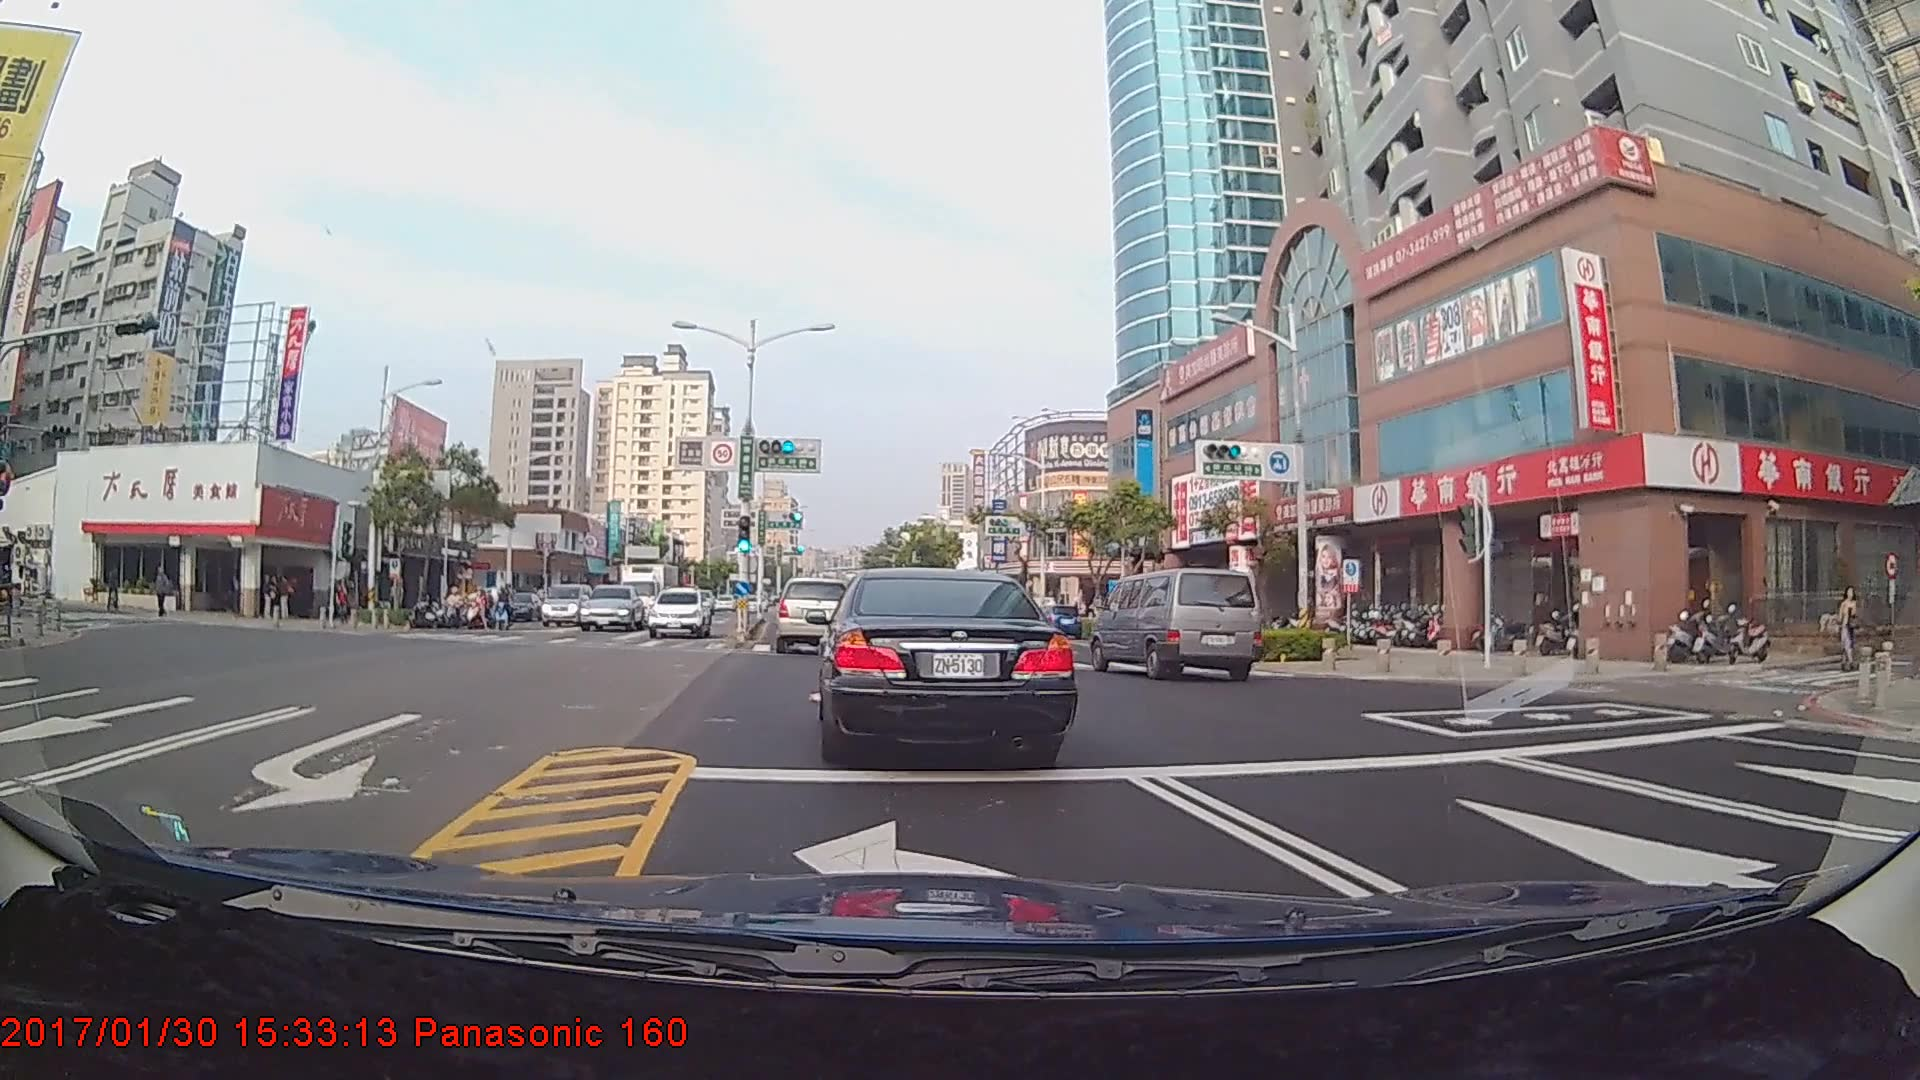pedestrian: (1836, 589, 1862, 663), (263, 573, 283, 623), (150, 567, 170, 617), (276, 575, 296, 623)
vehicle: (813, 566, 1070, 755), (1095, 564, 1259, 681), (777, 578, 855, 655), (617, 556, 680, 629), (647, 586, 713, 639), (578, 584, 647, 633), (542, 581, 597, 627), (1029, 602, 1080, 642)
